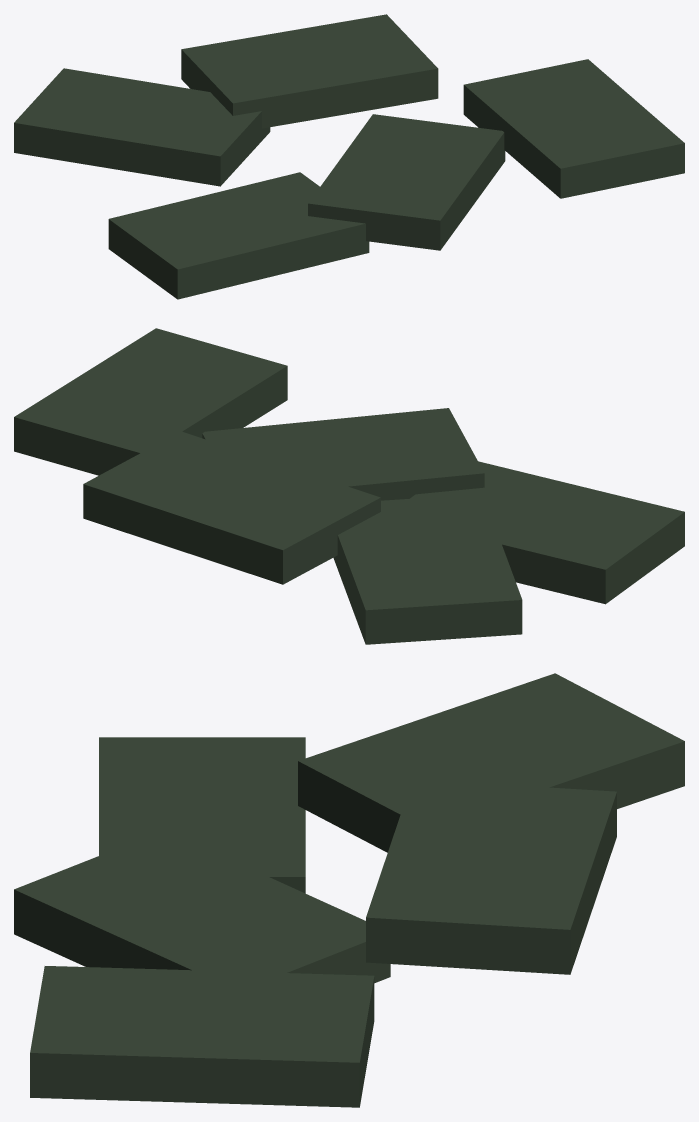
File: debris-plastic.glb
The picture shows the model from 3 angles, top to bottom: view 1: azimuth 30°, elevation 25°; view 2: azimuth 150°, elevation 25°; view 3: azimuth 270°, elevation 25°; orthographic projection. The views are drawn at different scales.
Parts seen in each view (by area): view 1: debris-plastic; view 2: debris-plastic; view 3: debris-plastic.
Boxes of the visible parts, left/top/right/bottom form: debris-plastic: left=14, top=14, right=684, bottom=299; debris-plastic: left=14, top=328, right=684, bottom=644; debris-plastic: left=14, top=673, right=684, bottom=1107.
Size of the model in its own units: 0.2123 by 0.032 by 0.1624.
Materials: 1 (1 with a texture image).
